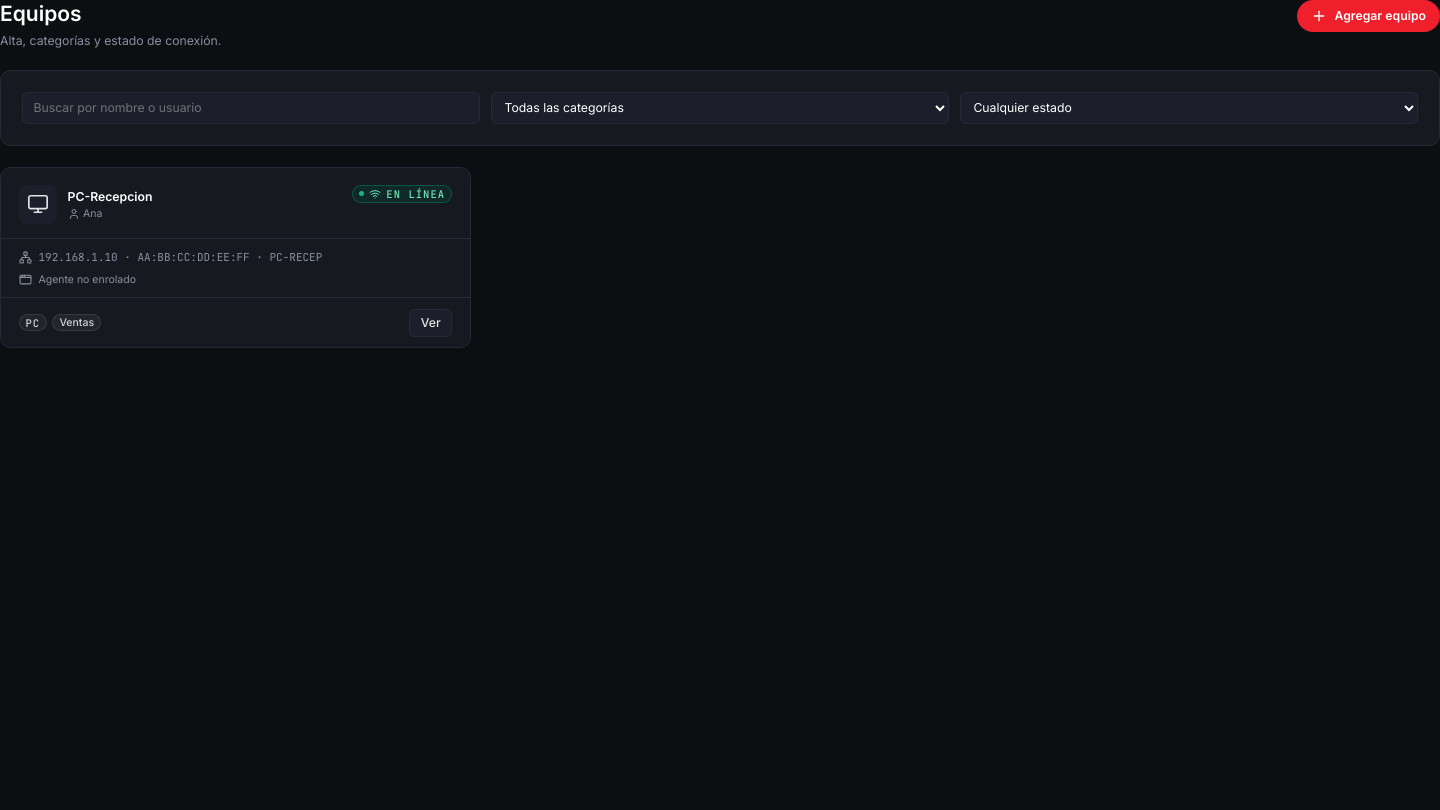
it: crea un equipo nuevo y muestra el código de enrolamiento
Expected: the text "PC-Recepcion" is shown, [68,188,152,205]
Click the button "Agregar equipo" at (1369, 16), box [1297,0,1439,32]
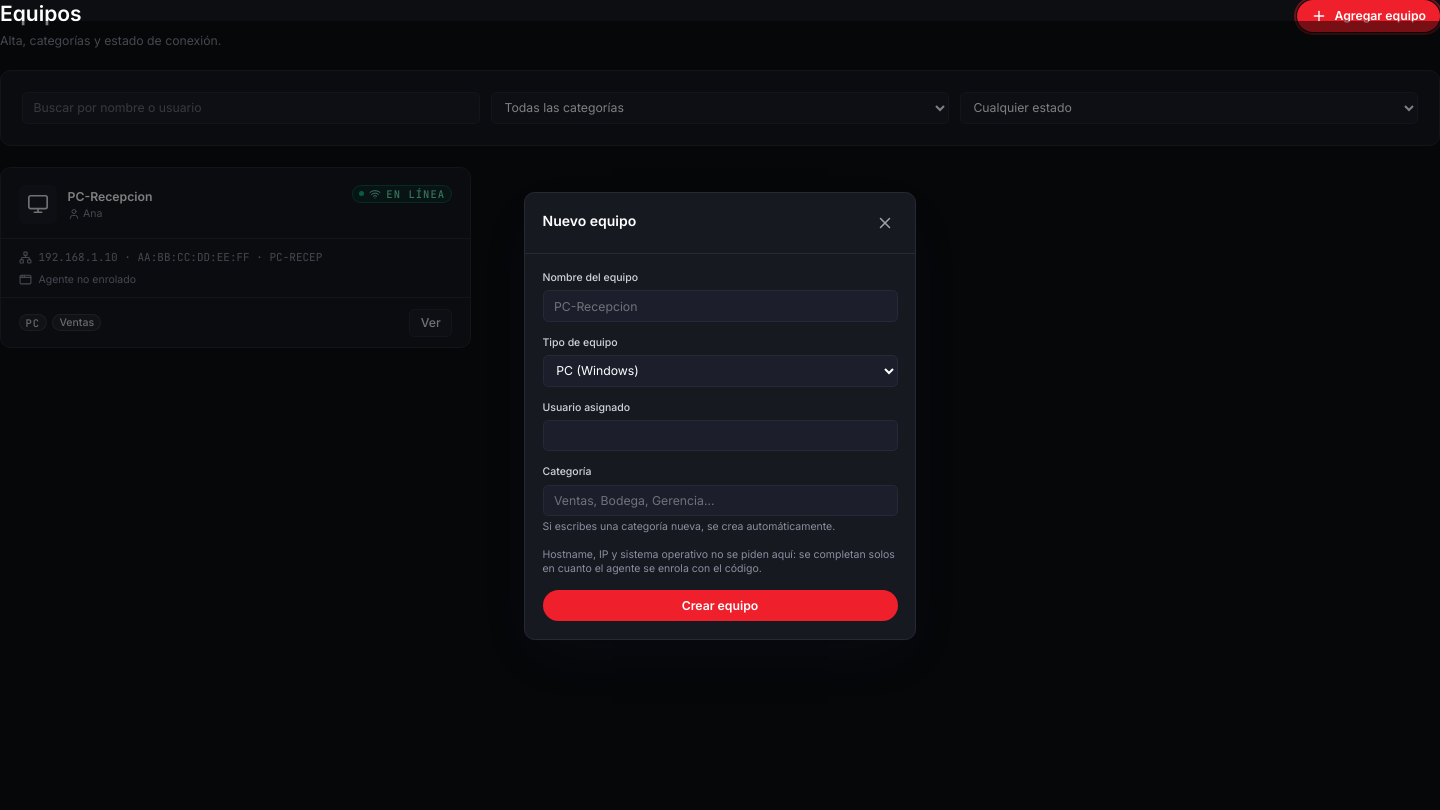
Type "PC-Nuevo" into the field with placeholder "PC-Recepcion" at (720, 306), box [542,290,898,322]
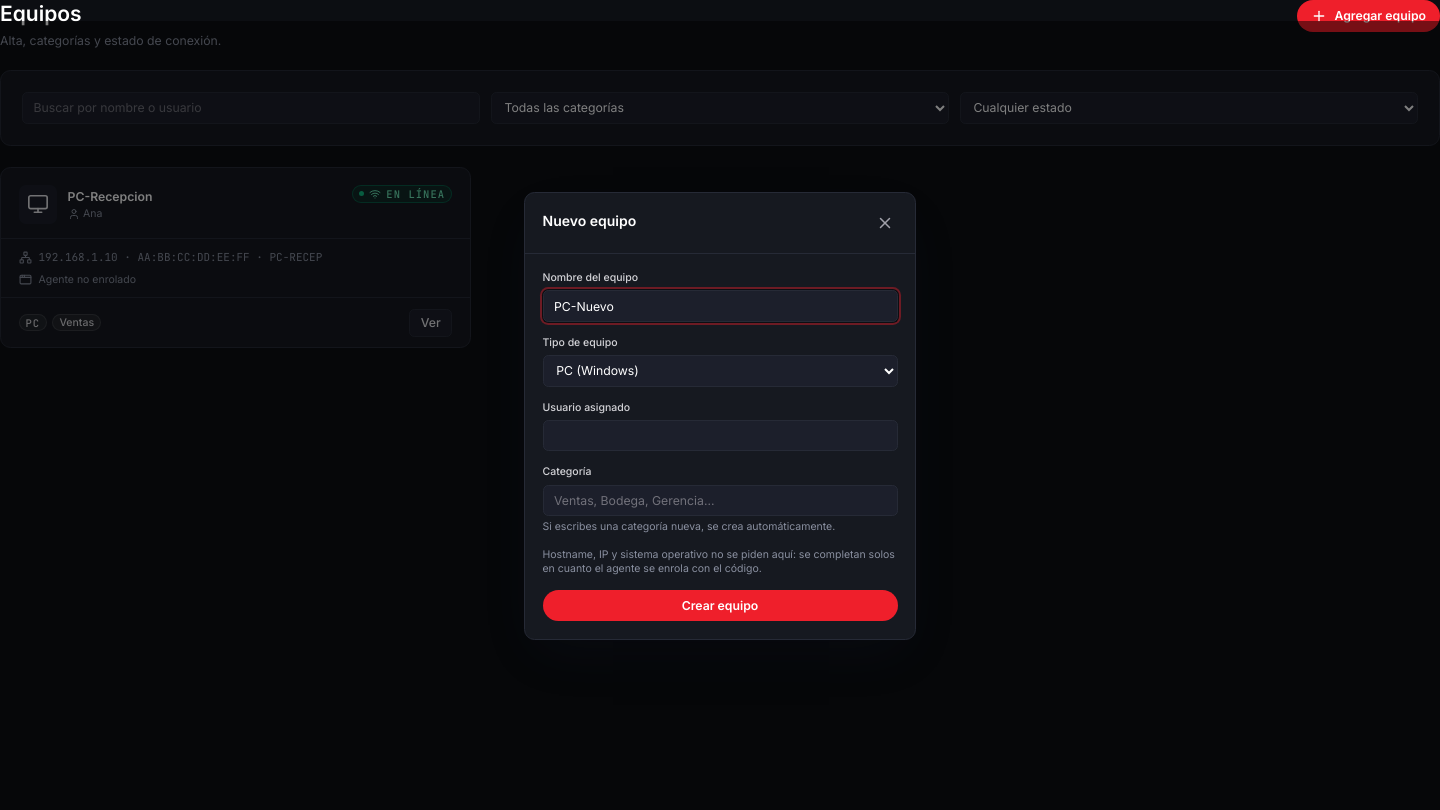
Click the button "Crear equipo" at (720, 605), box [542,590,898,621]
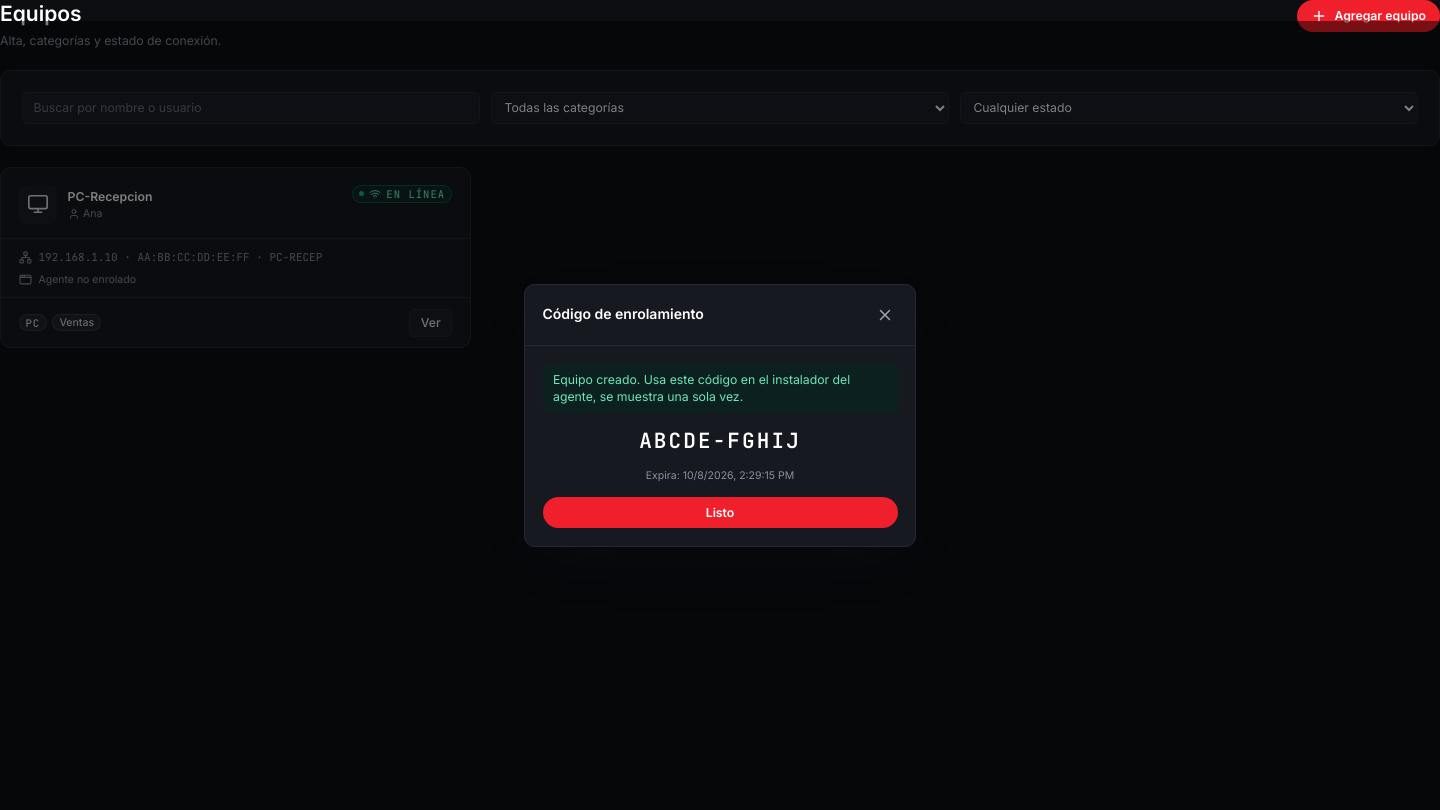
Expected: the text "ABCDE-FGHIJ" is shown, [639,427,801,454]
